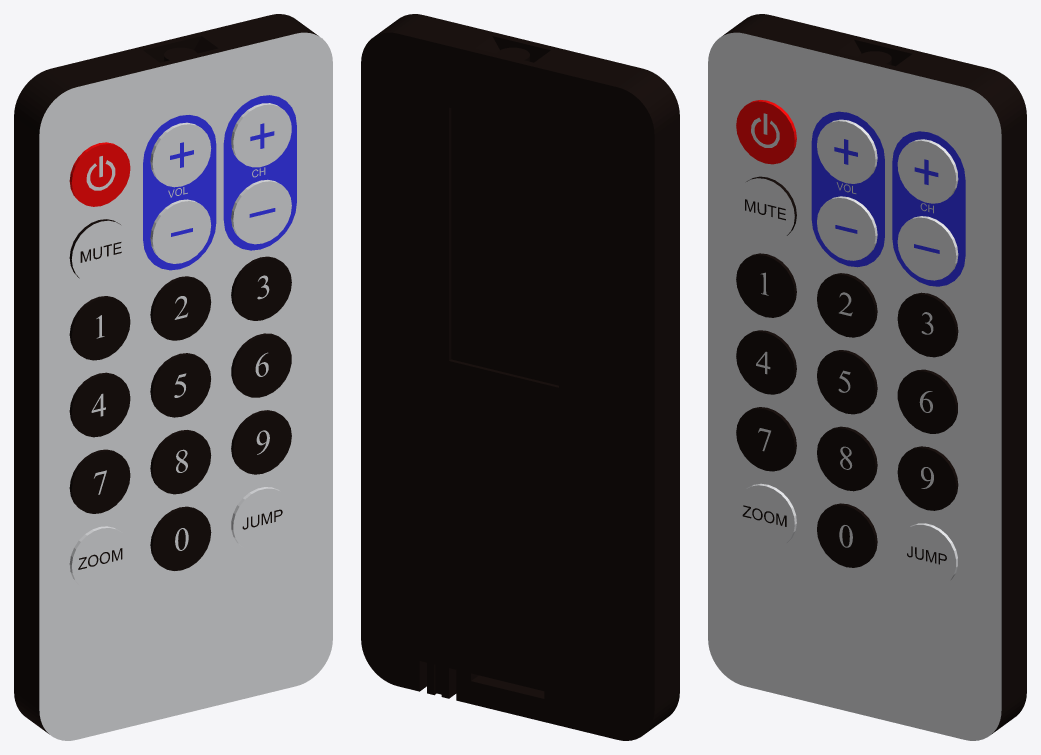
3 views of the same model, side by side, from view 1: azimuth 30°, elevation 25°; view 2: azimuth 150°, elevation 25°; view 3: azimuth 330°, elevation 25° (orthographic).
Parts seen in each view (by area): view 1: remote controller; view 2: remote controller; view 3: remote controller.
Boxes of the visible parts, left/top/right/bottom form: remote controller: left=14, top=14, right=332, bottom=740; remote controller: left=361, top=14, right=679, bottom=740; remote controller: left=708, top=14, right=1026, bottom=740.
Size of the model in its own units: 1.57 by 3.35 by 0.2569.
